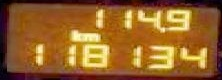-: (158, 24, 164, 34)
1: (129, 43, 142, 69), (64, 42, 78, 65), (91, 7, 102, 28), (120, 8, 131, 29), (33, 41, 42, 65)
3: (147, 43, 173, 68)
4: (178, 44, 204, 68), (133, 8, 158, 28)
8: (78, 43, 107, 67)
9: (165, 7, 187, 30)
X: (80, 30, 100, 40), (67, 27, 80, 40)
